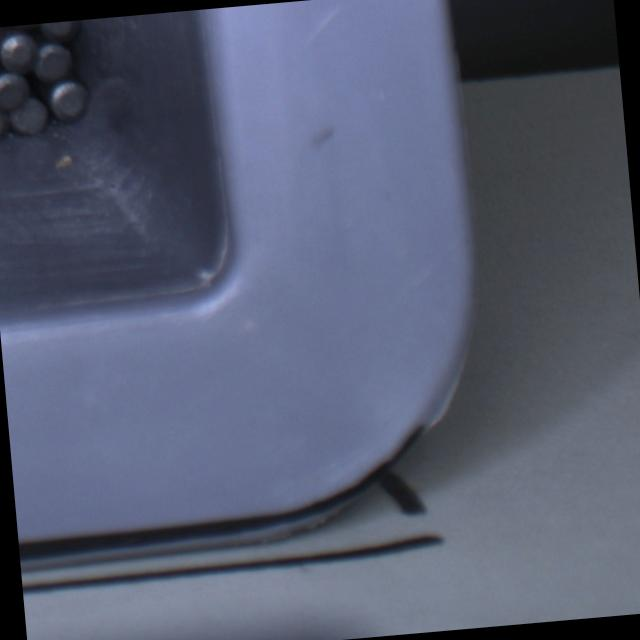tool: (49, 78, 92, 122), (6, 94, 49, 134), (32, 40, 74, 80), (0, 30, 37, 73), (0, 71, 29, 110), (37, 20, 79, 43), (0, 100, 5, 140)
